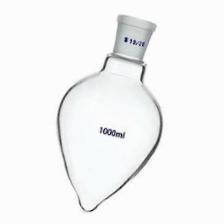Pear shaped flask: (51, 16, 173, 217)
